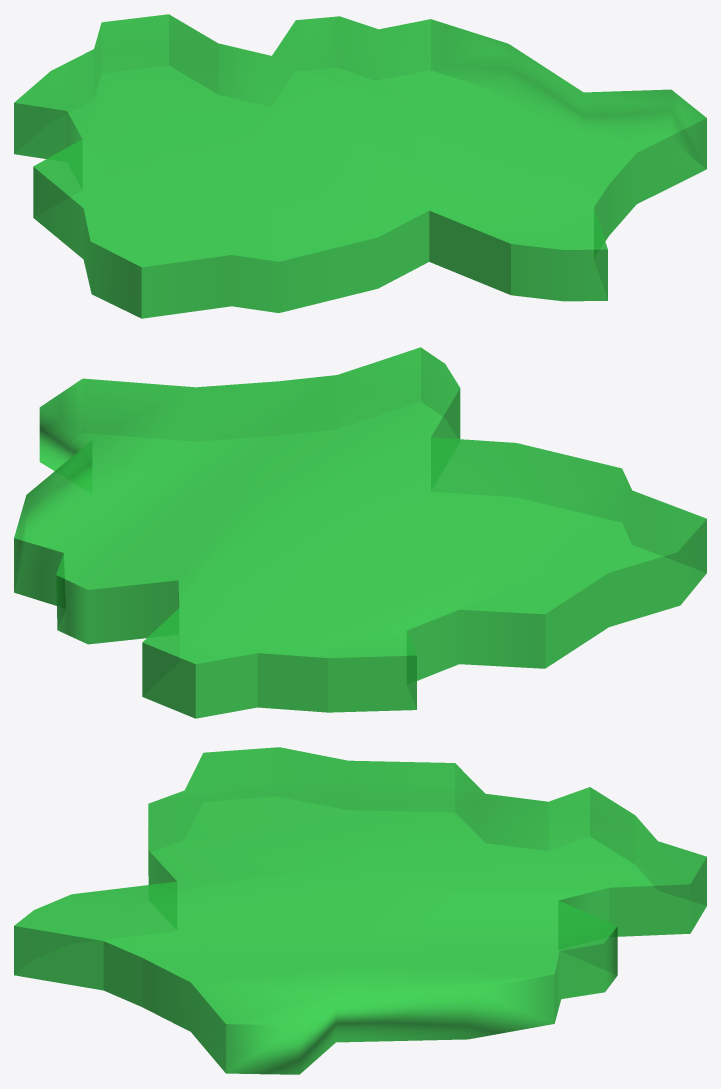
File: Scree_04_Collider.fbx
The picture shows the model from 3 angles, top to bottom: view 1: azimuth 30°, elevation 25°; view 2: azimuth 150°, elevation 25°; view 3: azimuth 270°, elevation 25°; orthographic projection. The views are drawn at different scales.
Visible parts, largest first — view 1: Scree_04_Collider; view 2: Scree_04_Collider; view 3: Scree_04_Collider.
Part boxes in pixels (bbox=[...]): Scree_04_Collider: bbox=[14, 14, 706, 318]; Scree_04_Collider: bbox=[14, 347, 706, 718]; Scree_04_Collider: bbox=[14, 747, 706, 1074].
Size of the model in its own units: 2180 by 256 by 2292.
